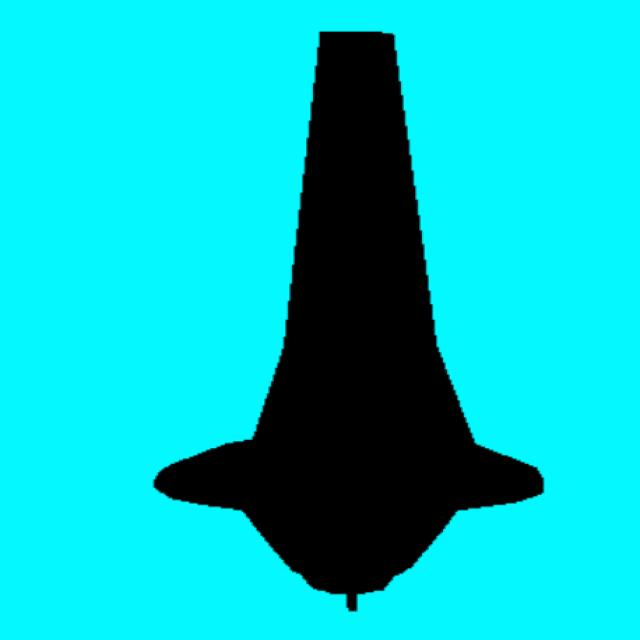BlackBuoy: (154, 32, 543, 609)
